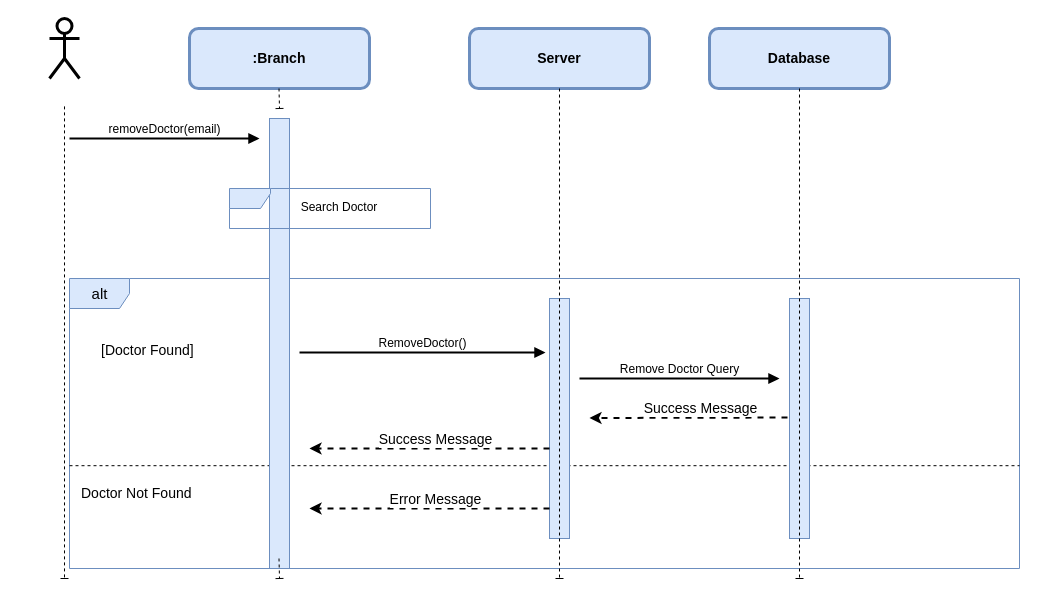
This 1037x604 diagram has some shape labels left out. The centre of each missing label's shape, as x and y in pixels:
Branch Manager: point (64, 48)
ref: point (329, 208)
